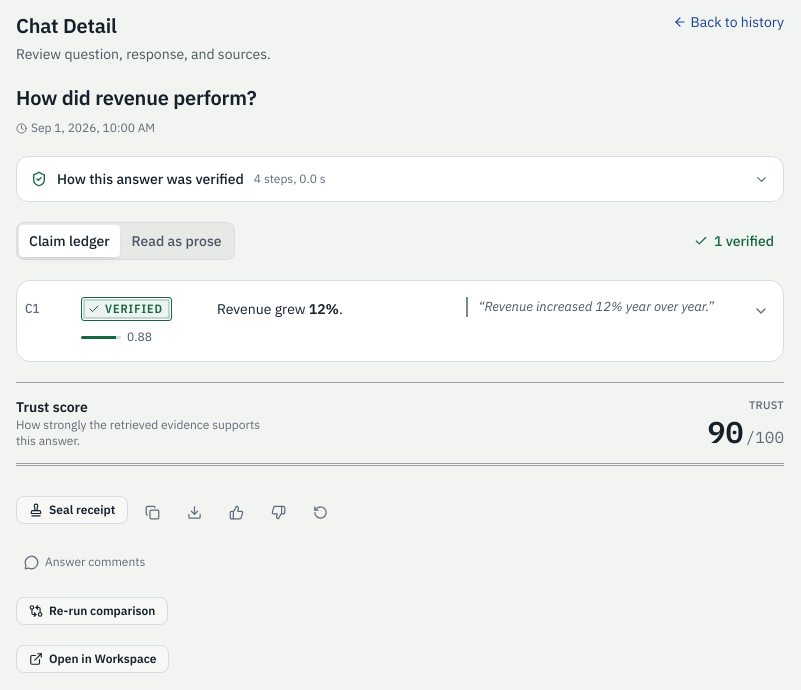
Test: ChatDetailPage › switching to "Read as prose" renders the claim text with a verdict icon, not a ledger row
Click the button "Read as prose" at (177, 241), box [122,225,232,257]
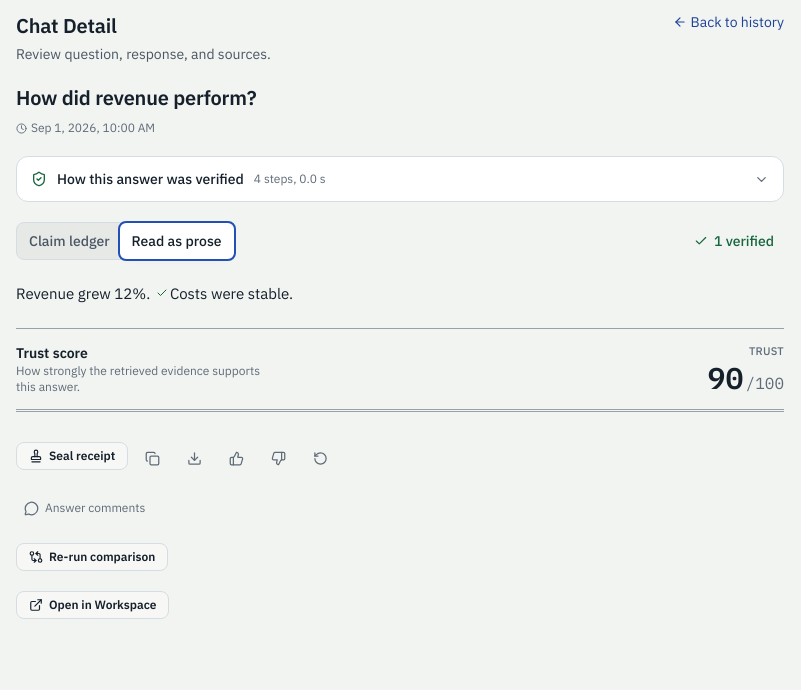
Now the text "C1" is gone
